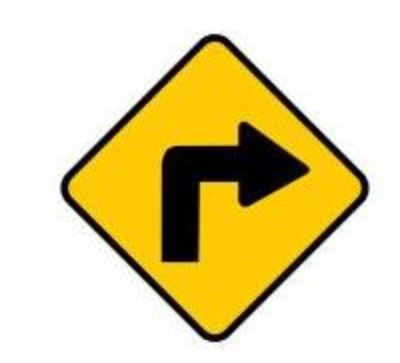Right: (45, 16, 230, 207), (213, 11, 379, 201), (159, 20, 258, 337), (47, 179, 225, 345), (204, 123, 341, 319), (149, 111, 282, 220), (266, 119, 312, 228)
